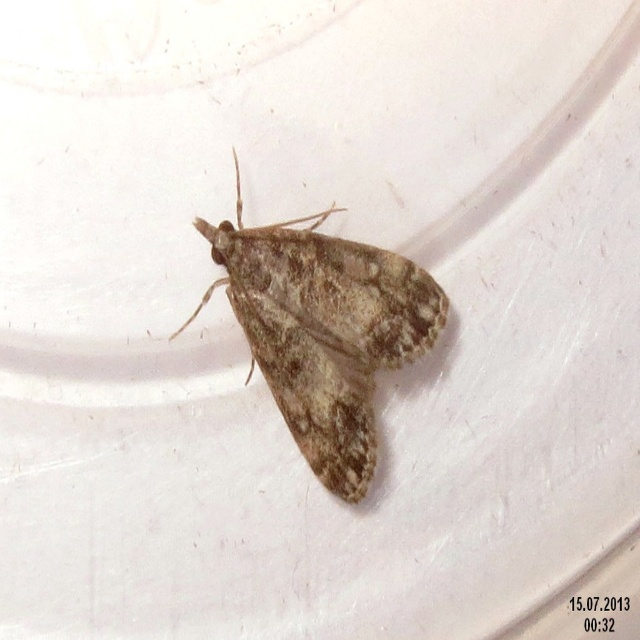Moths and butterflies: (159, 144, 451, 509)
